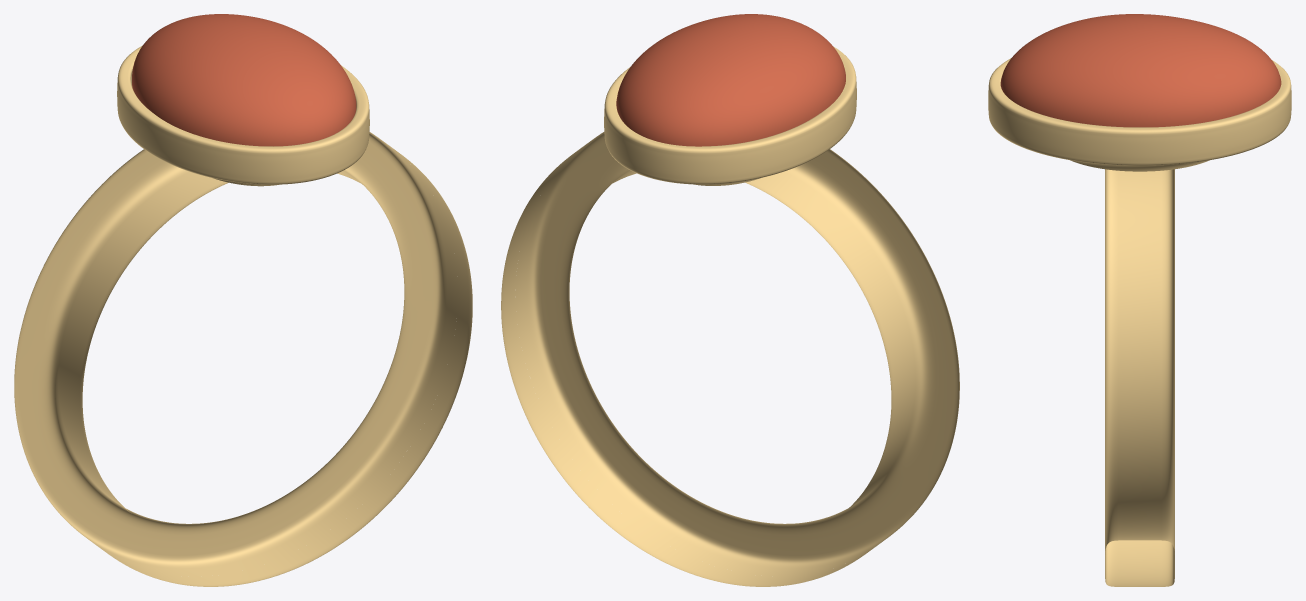
Rendered from vyoma-contemporary-moonga.glb.
3 views of the same model, side by side, from view 1: azimuth 30°, elevation 25°; view 2: azimuth 150°, elevation 25°; view 3: azimuth 270°, elevation 25° (orthographic).
Visible parts, largest first — view 1: shank, stone, metal; view 2: shank, stone, metal; view 3: shank, stone, metal.
Part boxes in pixels (x1,y1,x2,y2): shank: (14, 132, 472, 586); stone: (132, 14, 356, 146); metal: (117, 45, 369, 186); shank: (501, 132, 959, 586); stone: (616, 14, 845, 146); metal: (604, 47, 856, 185); shank: (1105, 169, 1174, 586); stone: (1000, 14, 1281, 127); metal: (988, 58, 1291, 171).
Bounding box in the file's own units: 2.13 × 2.53 × 1.3.
